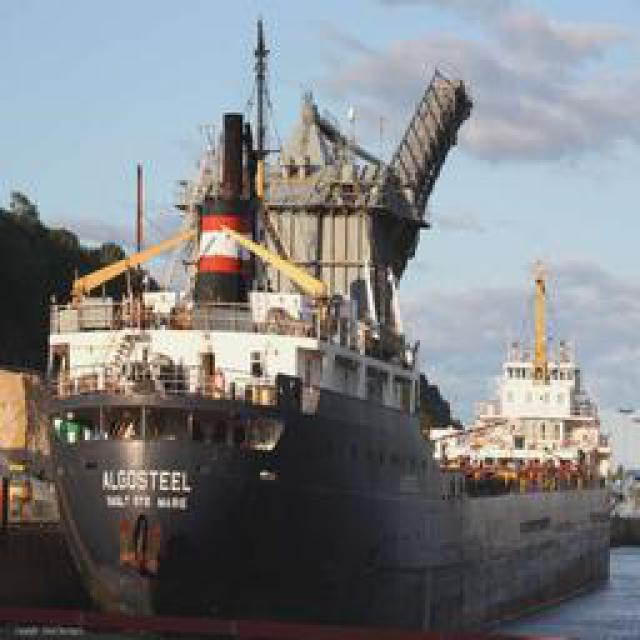Ship: (26, 1, 614, 626)
